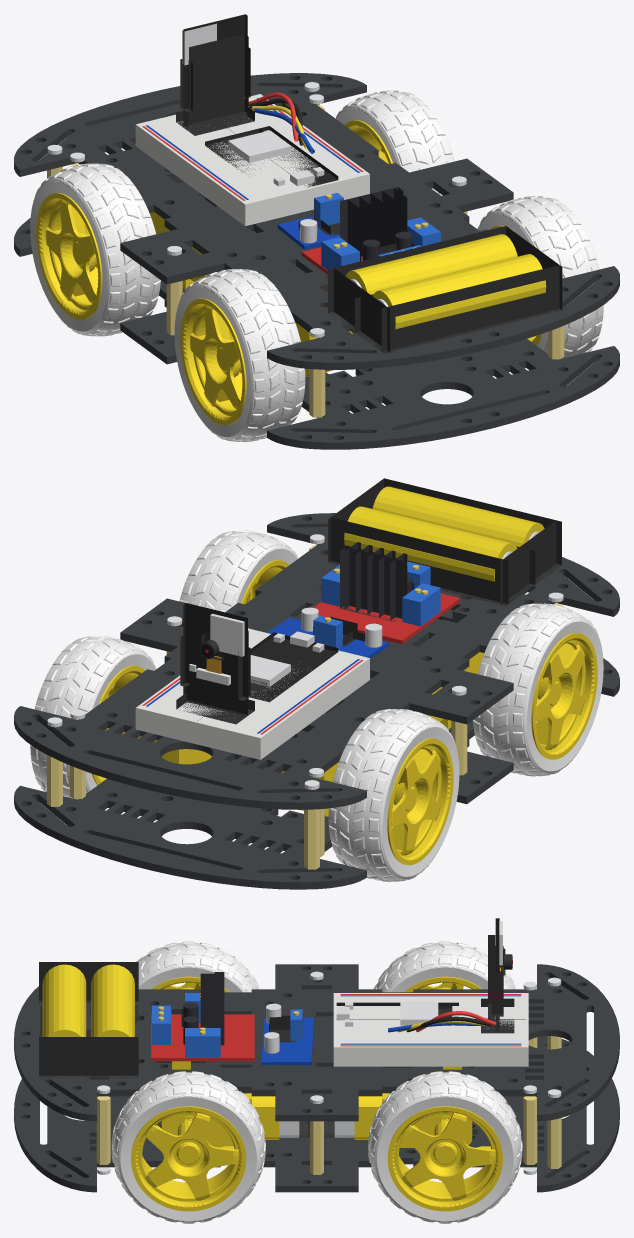
The model's file is carro_4wd_robot.glb.
3 views of the same model, one above another, from view 1: azimuth 30°, elevation 25°; view 2: azimuth 150°, elevation 25°; view 3: azimuth 270°, elevation 25° (orthographic). The views are drawn at different scales.
Parts seen in each view (by area): view 1: Placa_superior, Placa_inferior, Protoboard_Body, Wheel_RL_Tire, Wheel_FL_Tire, Wheel_RR_Tire, Bat_Tray_Wall_Rear, Wheel_RL_Rim, Wheel_FL_Rim, Wheel_FR_Tire, Cell_18650_0, Cam_Bracket_Back (+20 smaller); view 2: Placa_superior, Placa_inferior, Wheel_FL_Tire, Wheel_RL_Tire, Protoboard_Body, Wheel_FR_Tire, Wheel_FL_Rim, Wheel_RL_Rim, Wheel_RR_Tire, Cell_18650_1, Bat_Tray_Wall_Front, Cell_18650_0 (+22 smaller); view 3: Placa_superior, Placa_inferior, Protoboard_Body, Wheel_FR_Tire, Wheel_RR_Tire, Wheel_RR_Rim, Wheel_FR_Rim, Wheel_FL_Tire, Bat_Tray_Wall_R, Wheel_RL_Tire, Cell_18650_0, Cell_18650_1 (+20 smaller).
Boxes of the visible parts, <box> form: Placa_superior: <box>14,73,619,369</box>; Placa_inferior: <box>14,179,619,449</box>; Protoboard_Body: <box>135,94,369,226</box>; Wheel_RL_Tire: <box>174,269,305,441</box>; Wheel_FL_Tire: <box>30,163,160,336</box>; Wheel_RR_Tire: <box>477,196,603,359</box>; Bat_Tray_Wall_Rear: <box>381,265,562,353</box>; Wheel_RL_Rim: <box>180,298,246,425</box>; Wheel_FL_Rim: <box>36,193,102,319</box>; Wheel_FR_Tire: <box>336,90,454,195</box>; Cell_18650_0: <box>373,254,546,329</box>; Cam_Bracket_Back: <box>189,34,248,127</box>; Placa_superior: <box>14,513,619,809</box>; Placa_inferior: <box>14,609,619,889</box>; Wheel_FL_Tire: <box>328,709,459,881</box>; Wheel_RL_Tire: <box>473,603,603,776</box>; Protoboard_Body: <box>135,628,369,759</box>; Wheel_FR_Tire: <box>30,636,156,799</box>; Wheel_FL_Rim: <box>387,738,453,865</box>; Wheel_RL_Rim: <box>531,633,597,759</box>; Wheel_RR_Tire: <box>179,530,298,612</box>; Cell_18650_1: <box>344,506,517,581</box>; Bat_Tray_Wall_Front: <box>328,517,508,605</box>; Cell_18650_0: <box>372,486,544,546</box>; Placa_superior: <box>14,964,619,1121</box>; Placa_inferior: <box>14,1036,619,1192</box>; Protoboard_Body: <box>333,993,528,1066</box>; Wheel_FR_Tire: <box>368,1071,522,1223</box>; Wheel_RR_Tire: <box>111,1071,265,1223</box>; Wheel_RR_Rim: <box>131,1106,246,1211</box>; Wheel_FR_Rim: <box>387,1106,502,1211</box>; Wheel_FL_Tire: <box>374,941,516,992</box>; Bat_Tray_Wall_R: <box>39,1037,138,1078</box>; Wheel_RL_Tire: <box>136,941,259,992</box>; Cell_18650_0: <box>42,964,86,1036</box>; Cell_18650_1: <box>91,964,134,1036</box>.
Bounding box in the file's own units: 153 × 103 × 255.
